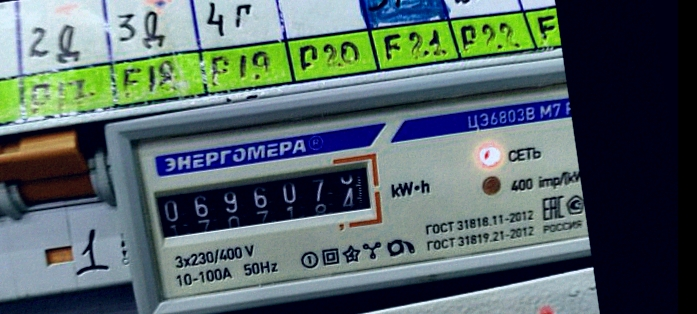0: (161, 197, 182, 223), (280, 178, 298, 205)
4: (338, 185, 358, 211)
6: (191, 193, 211, 219), (250, 183, 270, 209)
7: (310, 176, 328, 204)
9: (221, 189, 240, 215)
screen: (139, 146, 389, 253)
